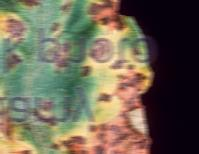Tomato Septoria leaf spot: (0, 0, 170, 154)
